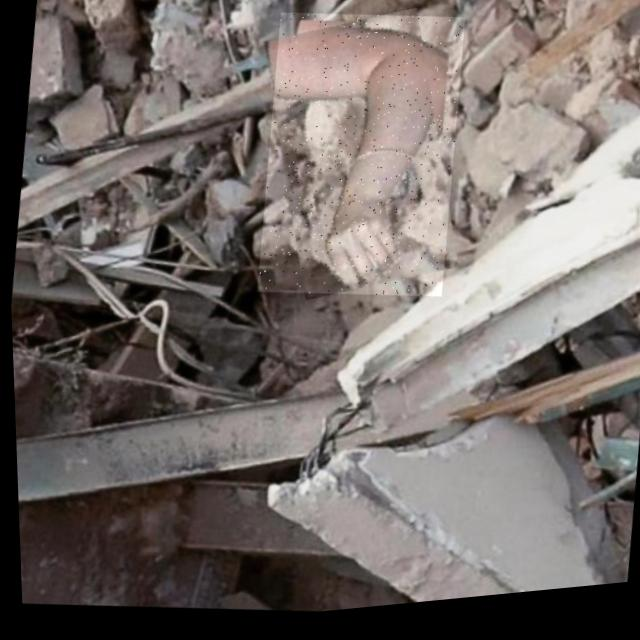Person in Rubble: (246, 3, 473, 317)
